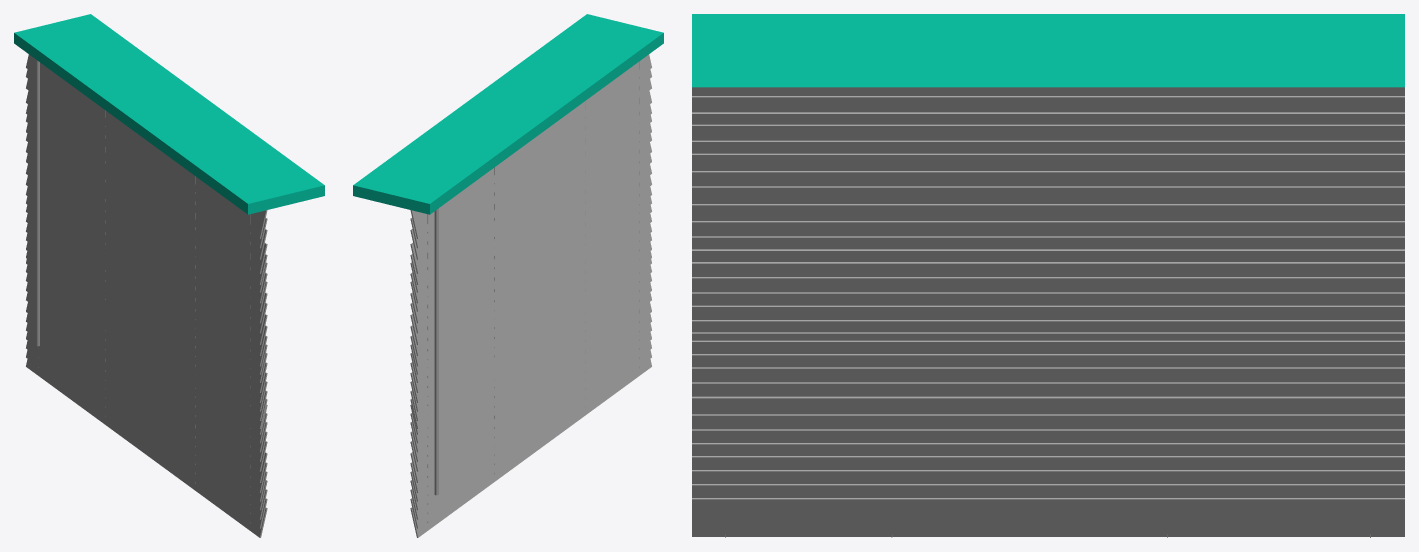
Rendered from sm_window_small_blinds_low.fbx.
3 views of the same model, side by side, from view 1: azimuth 30°, elevation 25°; view 2: azimuth 150°, elevation 25°; view 3: azimuth 270°, elevation 25° (orthographic). The views are drawn at different scales.
Visible parts, largest first — view 1: polySurface9_blinder_upper_shape; view 2: polySurface9_blinder_upper_shape; view 3: polySurface9_blinder_upper_shape.
Boxes of the visible parts, left/top/right/bottom form: polySurface9_blinder_upper_shape: left=14, top=14, right=324, bottom=537; polySurface9_blinder_upper_shape: left=353, top=14, right=663, bottom=537; polySurface9_blinder_upper_shape: left=692, top=14, right=1404, bottom=537.
Size of the model in its own units: 104 by 436 by 547.
